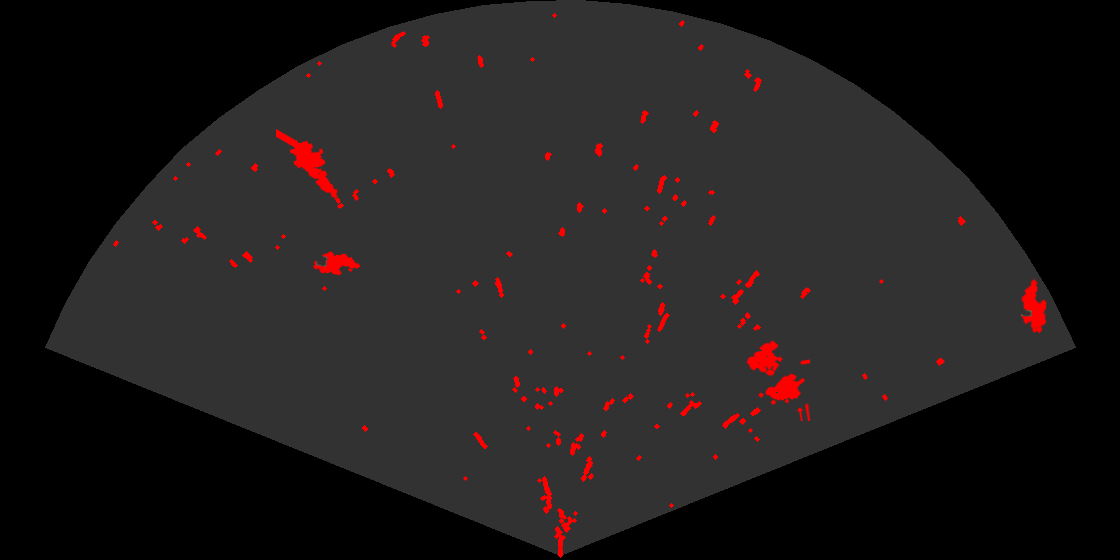AUV: (1019, 277, 1048, 335), (311, 250, 362, 277)
cage: (745, 339, 810, 421)
frogman: (276, 129, 339, 200)
